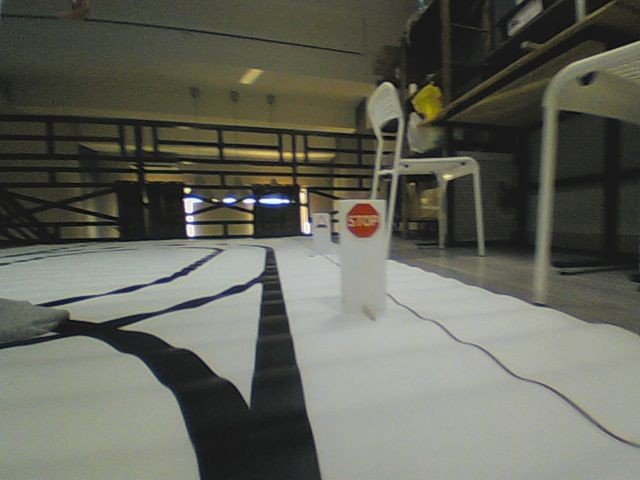Stop: (344, 201, 380, 239)
